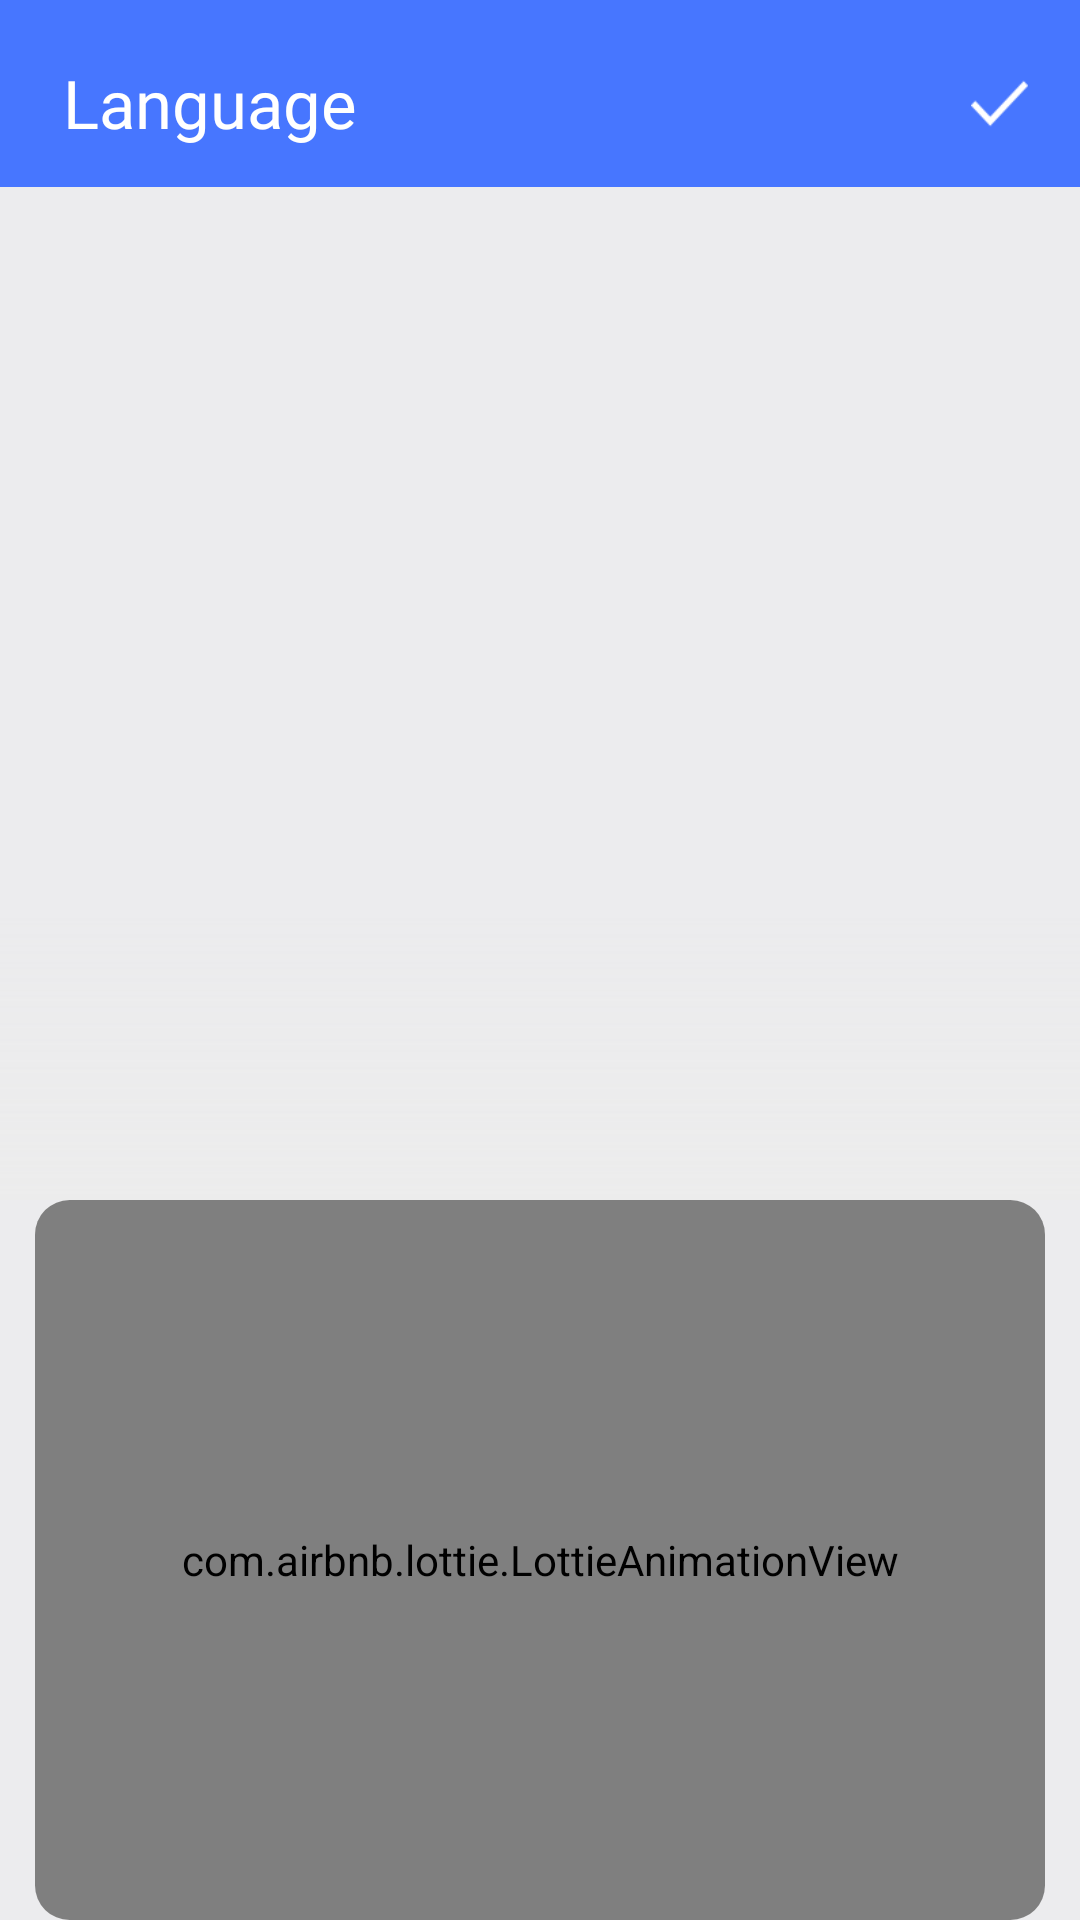

Icon bounding boxes for this 1080*1920 phone screenshot, format Rect(x1, y1, x2, y2):
language check: Rect(971, 81, 1028, 126)
